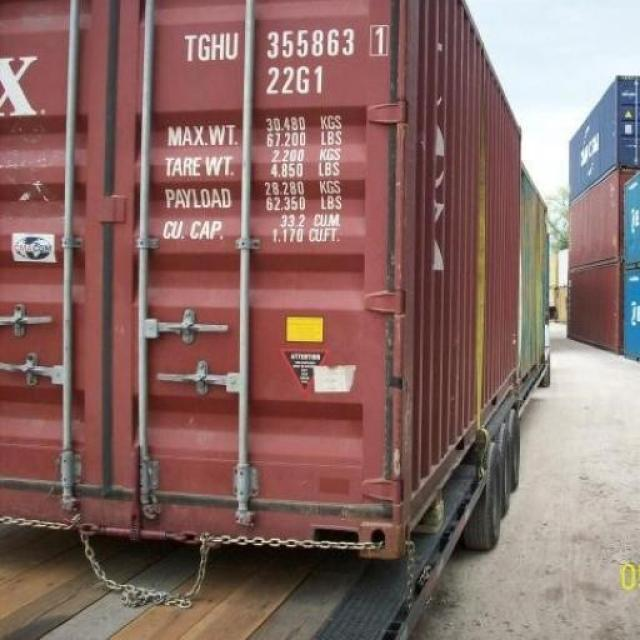ISO: (268, 66, 326, 98)
container_number: (186, 28, 380, 62)
